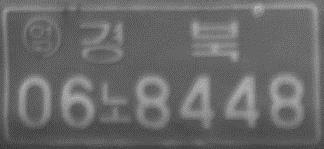0: (16, 75, 55, 131)
4: (177, 71, 218, 130), (222, 71, 261, 129)
6: (60, 72, 97, 132)
8: (134, 72, 173, 132), (268, 71, 307, 130)
경북_D: (77, 17, 242, 66)
노: (96, 78, 132, 127)
영: (21, 13, 63, 60)
